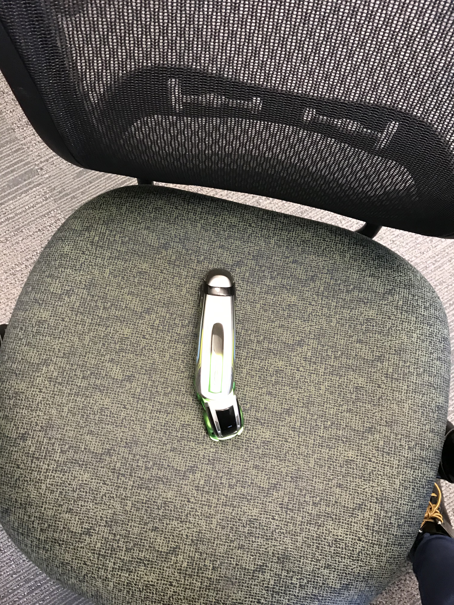Freewheel: (190, 267, 267, 442)
